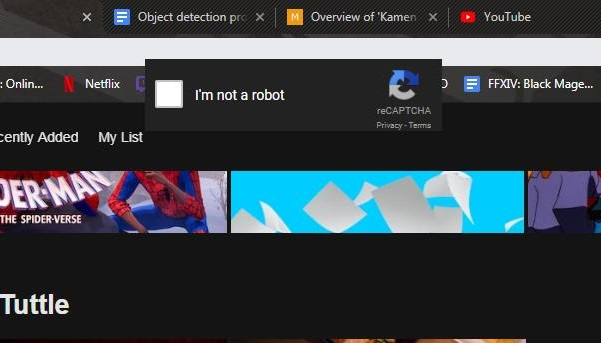captcha: (155, 80, 288, 109)
